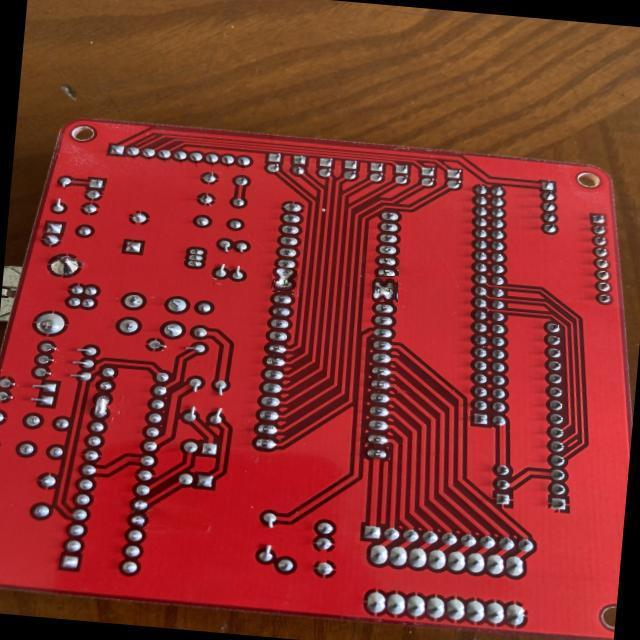damged: (88, 390, 116, 420), (372, 276, 398, 302), (272, 268, 297, 292)
